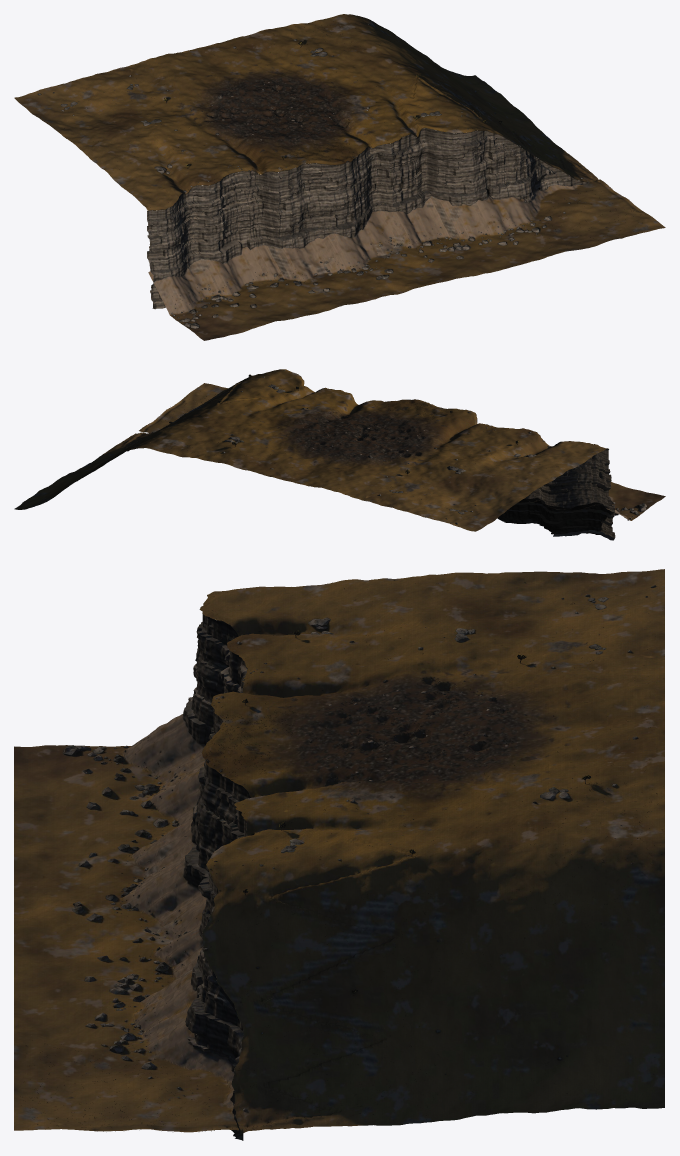
File: highland.glb
3 views of the same model, one above another, from view 1: azimuth 30°, elevation 25°; view 2: azimuth 150°, elevation 25°; view 3: azimuth 270°, elevation 25° (orthographic). The views are drawn at different scales.
Parts seen in each view (by area): view 1: site_cliff, site_plateau, props_rocks; view 2: site_plateau, site_cliff, props_rocks, props_scorch; view 3: site_plateau, site_cliff, props_rocks, props_scorch.
Boxes of the visible parts, x1=… form: site_cliff: x1=147, y1=128, x2=665, y2=340; site_plateau: x1=14, y1=14, x2=598, y2=210; props_rocks: x1=38, y1=24, x2=585, y2=328; site_plateau: x1=14, y1=369, x2=608, y2=531; site_cliff: x1=139, y1=383, x2=665, y2=540; props_rocks: x1=127, y1=369, x2=646, y2=524; props_scorch: x1=302, y1=412, x2=425, y2=461; site_plateau: x1=200, y1=569, x2=664, y2=1133; site_cliff: x1=14, y1=595, x2=254, y2=1140; props_rocks: x1=63, y1=582, x2=656, y2=1113; props_scorch: x1=293, y1=676, x2=528, y2=785.
Bounding box in the file's own units: 632 × 154 × 451.
Materials: 6 (6 with a texture image).
